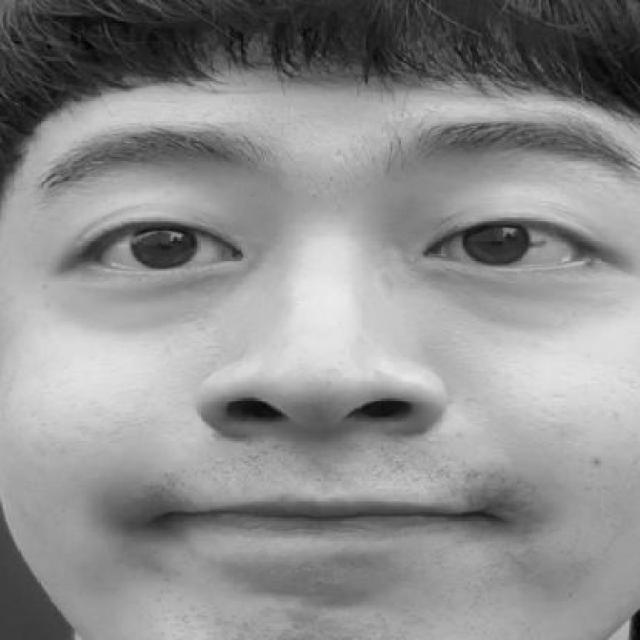happy: (14, 112, 640, 580)
